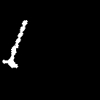half_double_crochet: (3, 20, 26, 67)
